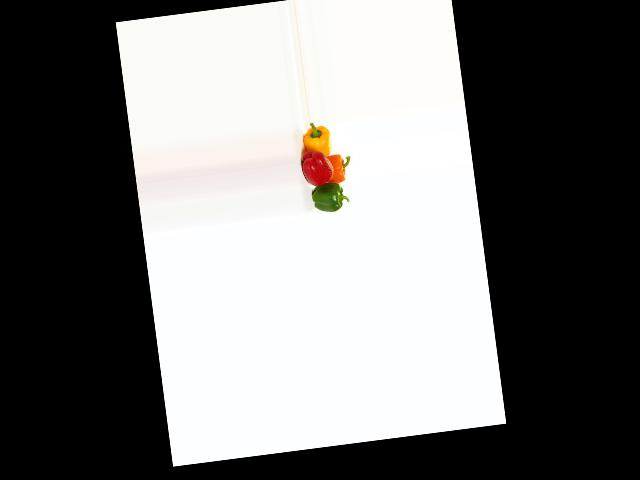bell_pepper: (305, 179, 348, 215)
